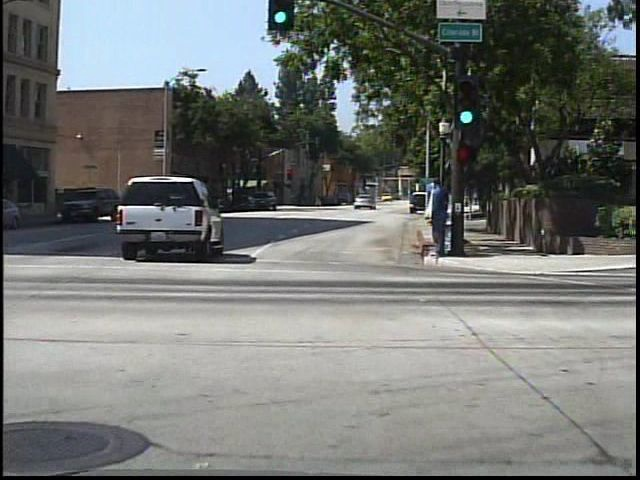person: (425, 173, 452, 259), (418, 178, 441, 261), (312, 193, 324, 209)
